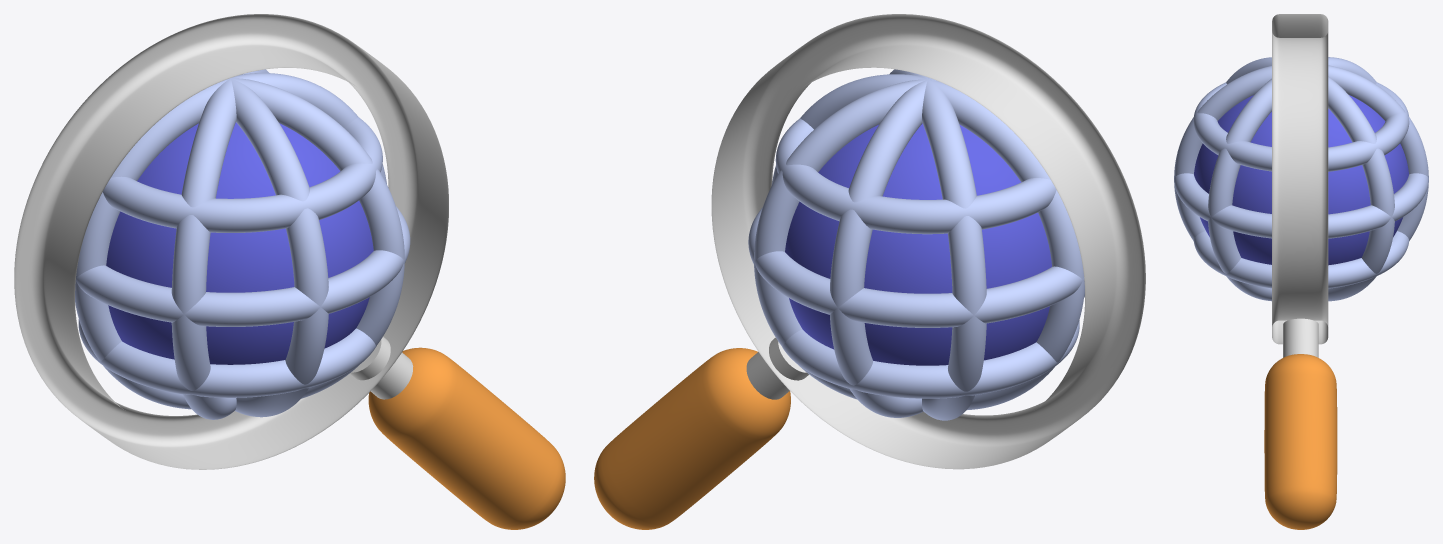
The model's file is global-searching-animated-3d-icon-1193023586356.glb.
3 renders of one model, left to right at view 1: azimuth 30°, elevation 25°; view 2: azimuth 150°, elevation 25°; view 3: azimuth 270°, elevation 25°, orthographic. The views are drawn at different scales.
Parts seen in each view (by area): view 1: Sphere.013, Circle.009, Sphere.010, Cylinder.010, Cylinder.009; view 2: Sphere.013, Circle.009, Sphere.010, Cylinder.010, Cylinder.009; view 3: Sphere.013, Circle.009, Cylinder.010, Sphere.010, Cylinder.009.
Part boxes in pixels (x1=…): Sphere.013: x1=75, y1=69, x2=410, y2=419; Circle.009: x1=14, y1=14, x2=448, y2=469; Sphere.010: x1=106, y1=122, x2=373, y2=364; Cylinder.010: x1=368, y1=347, x2=565, y2=529; Cylinder.009: x1=349, y1=336, x2=413, y2=399; Sphere.013: x1=748, y1=69, x2=1084, y2=420; Circle.009: x1=711, y1=14, x2=1145, y2=469; Sphere.010: x1=785, y1=123, x2=1051, y2=365; Cylinder.010: x1=594, y1=348, x2=790, y2=529; Cylinder.009: x1=746, y1=337, x2=808, y2=399; Sphere.013: x1=1174, y1=57, x2=1428, y2=301; Circle.009: x1=1272, y1=14, x2=1328, y2=344; Cylinder.010: x1=1264, y1=354, x2=1337, y2=529; Sphere.010: x1=1194, y1=95, x2=1408, y2=265; Cylinder.009: x1=1283, y1=318, x2=1318, y2=357.
Size of the model in its own units: 1.68 by 1.7 by 0.9847.
